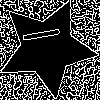I: (22, 23, 70, 45)
